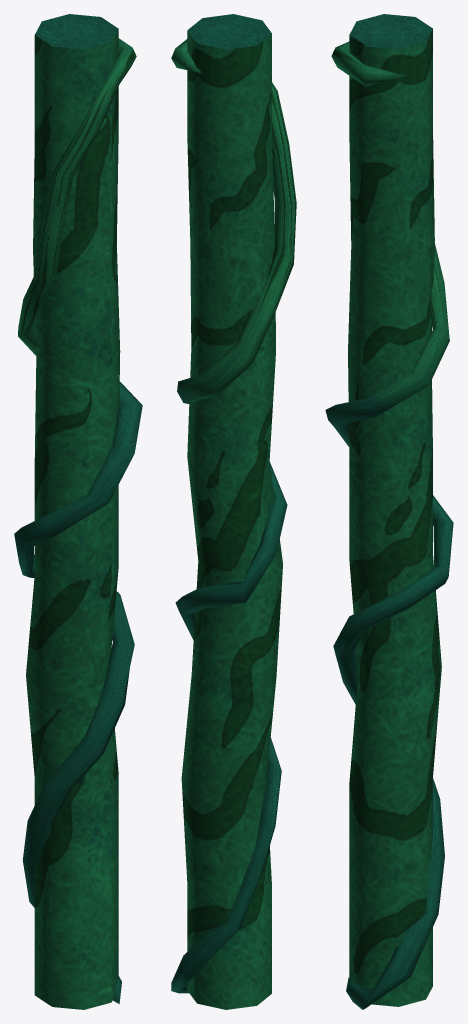
Rendered from liaan3.FBX.
The picture shows the model from 3 angles, left to right: view 1: azimuth 90°, elevation 25°; view 2: azimuth 210°, elevation 25°; view 3: azimuth 270°, elevation 25°; orthographic projection.
Parts seen in each view (by area): view 1: Cylinder005, Cylinder007; view 2: Cylinder005, Cylinder007; view 3: Cylinder005, Cylinder007.
Boxes of the visible parts, bbox=[...] form: Cylinder005: bbox=[26, 14, 120, 1009]; Cylinder007: bbox=[14, 38, 142, 1003]; Cylinder005: bbox=[181, 14, 282, 1009]; Cylinder007: bbox=[171, 39, 296, 993]; Cylinder005: bbox=[348, 14, 441, 1006]; Cylinder007: bbox=[325, 41, 453, 1009].
Bounding box in the file's own units: 23.36 × 211 × 25.36.
